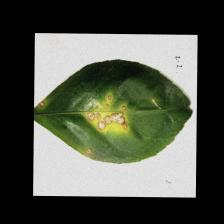canker: (85, 85, 140, 135)
